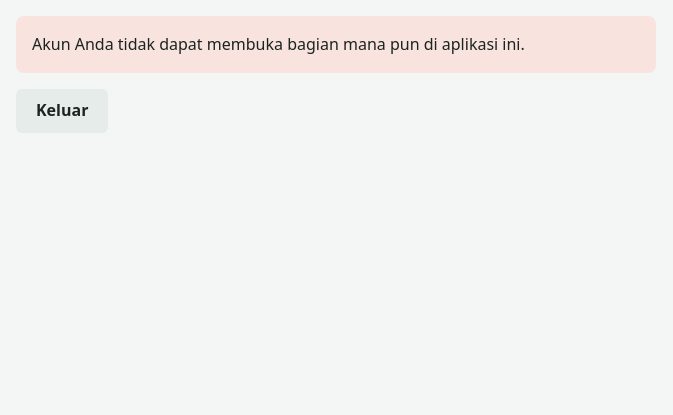
it: cangkang kurator › akun yang ditolak keduanya: kalimat dan tombol keluar saja
Expected: the text "Akun Anda tidak dapat membuka bagian mana pun di aplikasi ini." is shown, [32,33,525,55]
Click the button "Keluar". click: (62, 111)
box: [16,89,108,133]
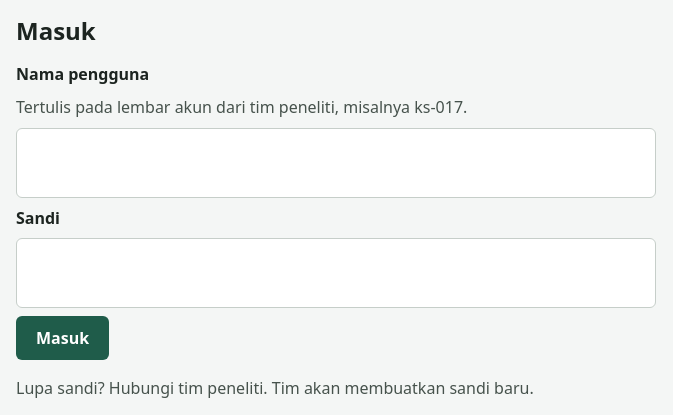
Now the heading "Masuk" is shown, box [16,14,96,47]
